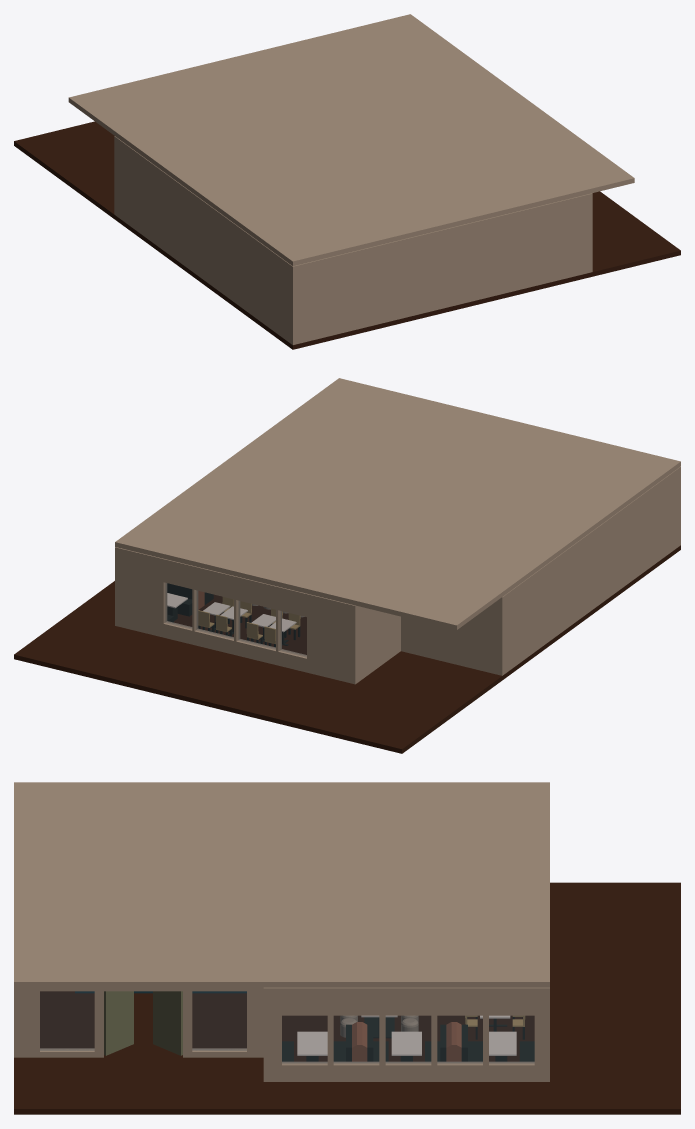
File: Cafe_Layout_2.fbx
3 renders of one model, top to bottom at view 1: azimuth 30°, elevation 25°; view 2: azimuth 150°, elevation 25°; view 3: azimuth 270°, elevation 25°, orthographic. The views are drawn at different scales.
Parts seen in each view (by area): view 1: Roof, Walls, Floor; view 2: Roof, Walls, Floor, Glass, Two-seat Tables, Sofas; view 3: Roof, Floor, Walls, Glass, Sofas, Doors, Long Table, Two-seat Tables.
Part boxes in pixels (x1,y1,x2,y2): Roof: [68, 14, 634, 265]; Walls: [114, 136, 592, 344]; Floor: [14, 121, 680, 349]; Roof: [115, 378, 680, 629]; Walls: [115, 466, 680, 684]; Floor: [14, 545, 680, 753]; Glass: [165, 583, 306, 656]; Two-seat Tables: [198, 597, 300, 647]; Sofas: [167, 583, 213, 622]; Roof: [14, 782, 549, 987]; Floor: [14, 882, 680, 1114]; Walls: [14, 987, 549, 1081]; Glass: [40, 991, 534, 1063]; Sofas: [282, 1022, 534, 1061]; Doors: [104, 991, 182, 1055]; Long Table: [340, 1015, 418, 1038]; Two-seat Tables: [465, 1015, 525, 1039].
Bounding box in the file's own units: 1774 × 386 × 2208.
